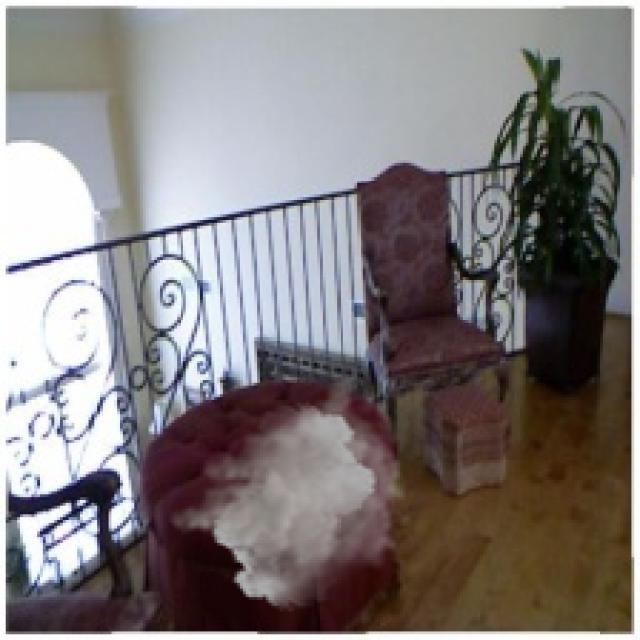Smoke: (165, 372, 408, 612)
